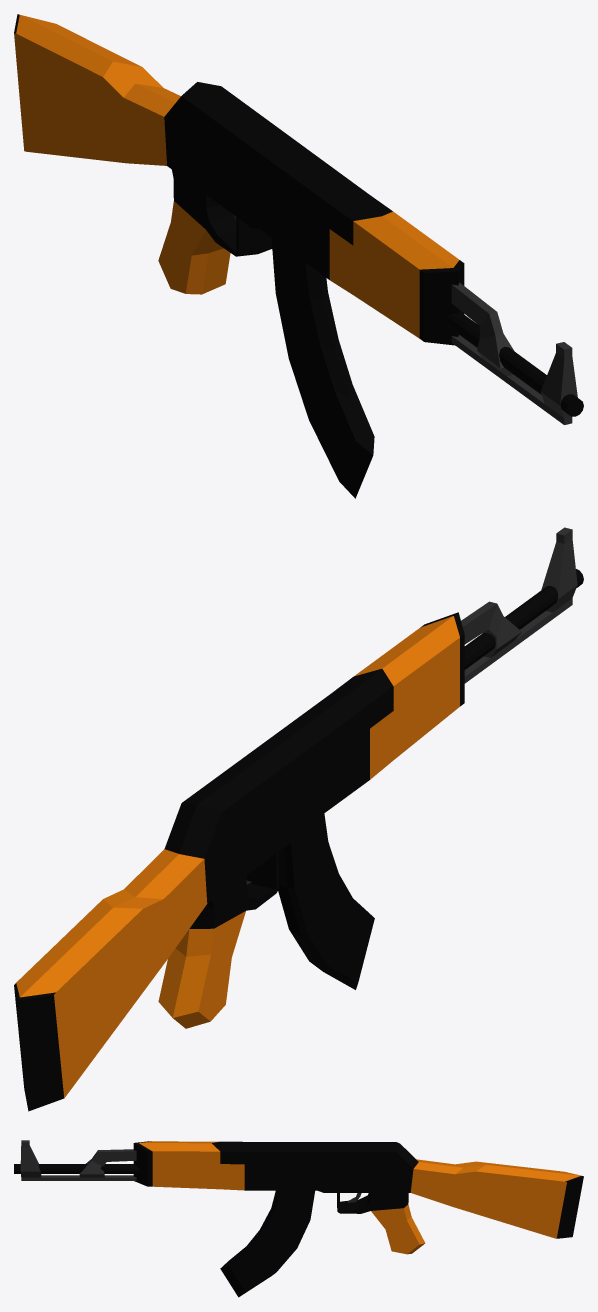
The picture shows the model from 3 angles, top to bottom: view 1: azimuth 30°, elevation 25°; view 2: azimuth 150°, elevation 25°; view 3: azimuth 270°, elevation 25°; orthographic projection. The views are drawn at different scales.
Visible parts, largest first — view 1: AK_47, AK_Mag; view 2: AK_47, AK_Mag; view 3: AK_47, AK_Mag.
Part boxes in pixels (bbox=[...]): AK_47: bbox=[14, 14, 583, 424]; AK_Mag: bbox=[271, 238, 374, 498]; AK_47: bbox=[14, 527, 583, 1111]; AK_Mag: bbox=[278, 814, 374, 989]; AK_47: bbox=[14, 1140, 583, 1254]; AK_Mag: bbox=[220, 1190, 314, 1297].
Size of the model in its own units: 0.0319 by 0.2334 by 0.7719.
